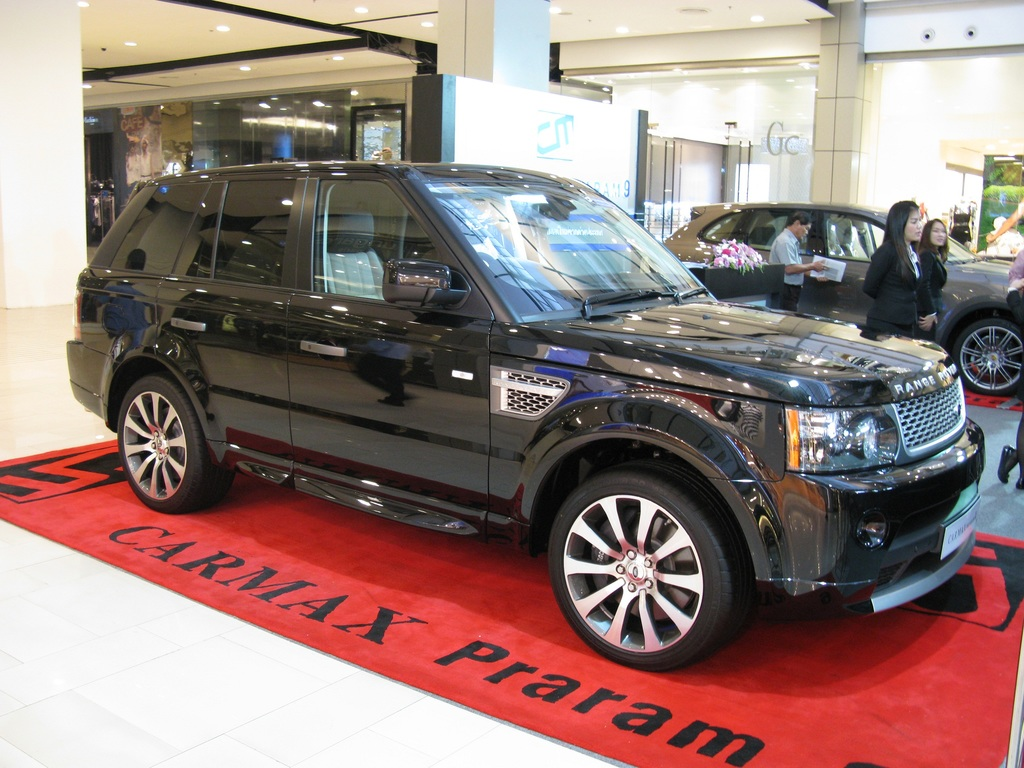Car: (66, 160, 985, 671), (660, 202, 1024, 396)
